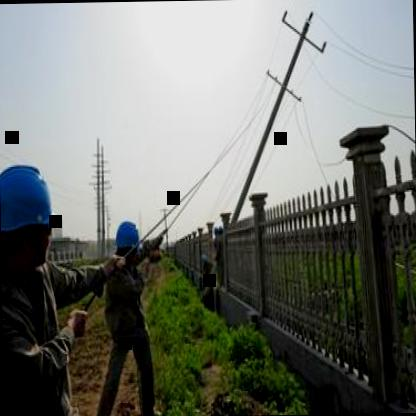helmet: (0, 150, 63, 281), (113, 218, 142, 268)
